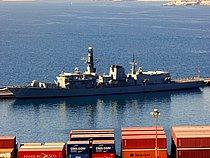MIL_Ship: (7, 46, 206, 98)
